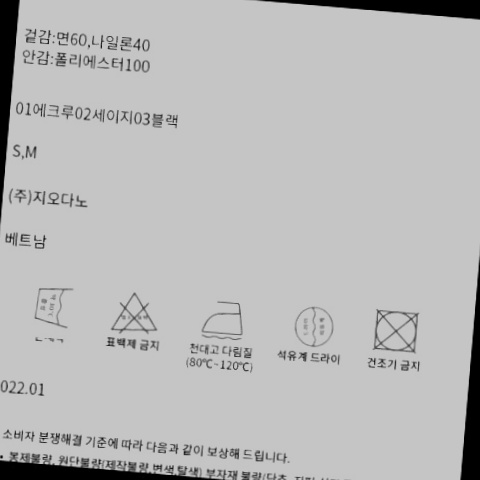30C: (31, 280, 80, 331)
DN_tumble_dry: (366, 306, 425, 355)
dry_clean_petrol_only: (291, 299, 344, 350)
iron: (196, 291, 250, 341)
non_chlorine_bleach: (108, 284, 166, 337)
